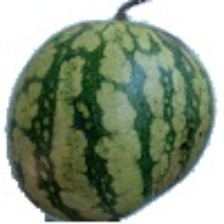watermelon: (37, 39, 175, 195)
